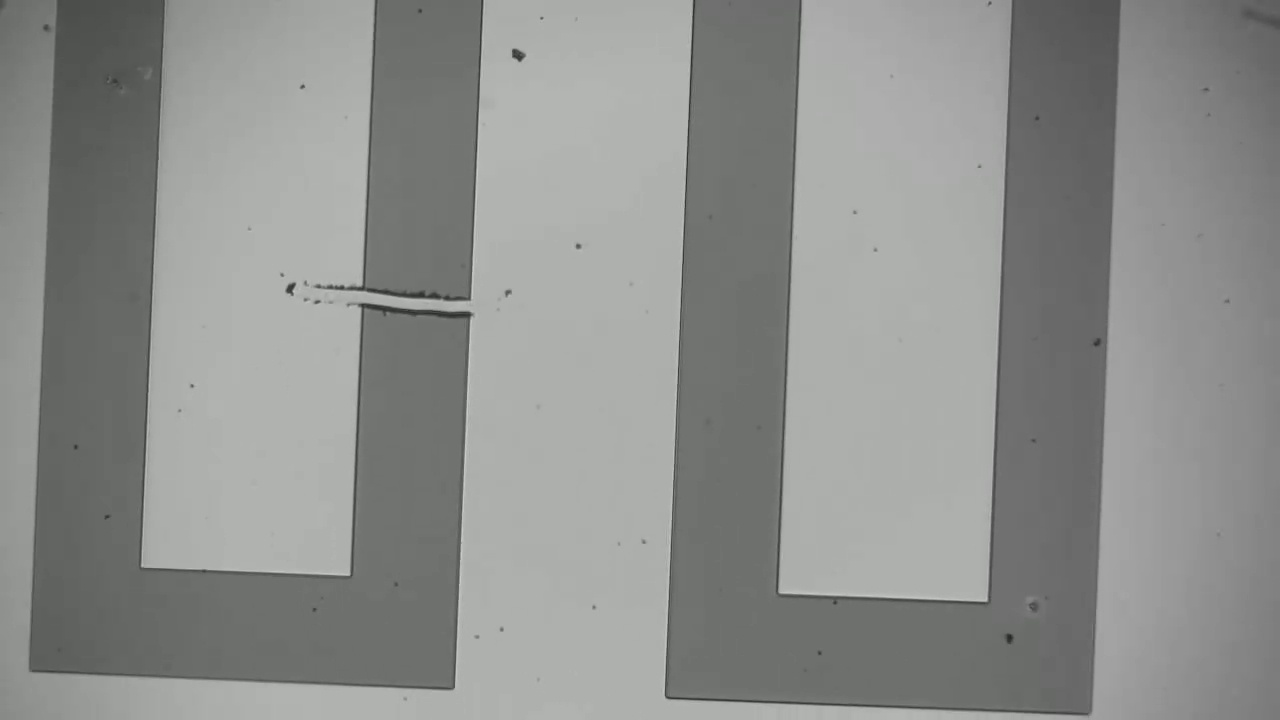Short_circuit: (323, 261, 494, 338)
